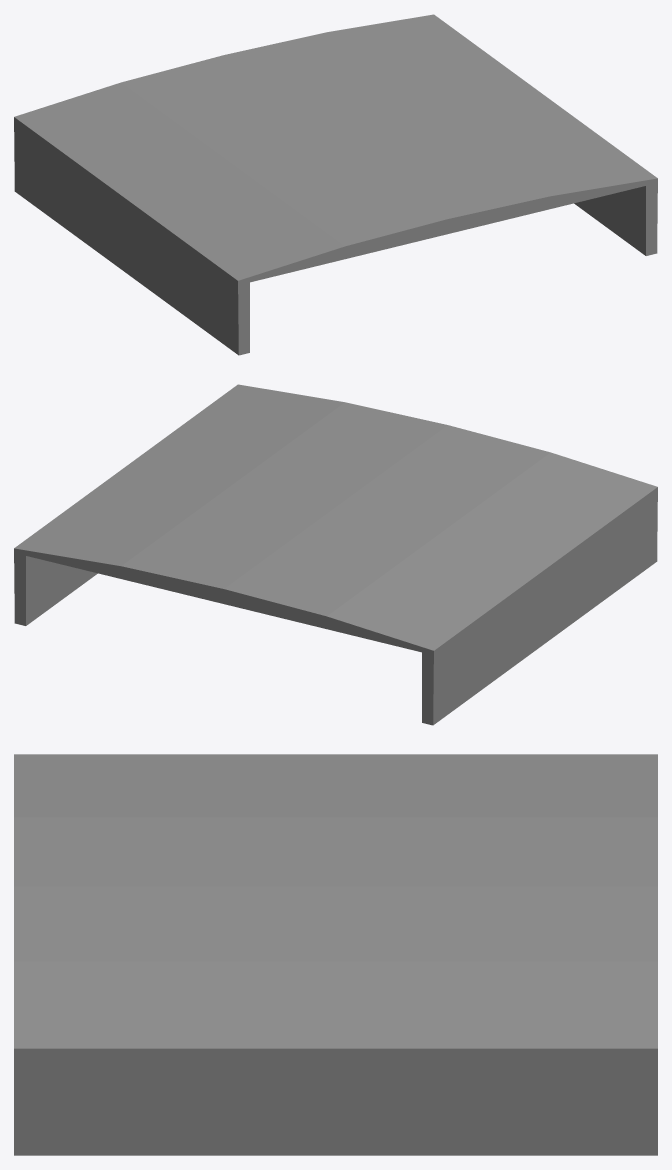
File: Itr_Bed_Double_Blanket_05.FBX
3 views of the same model, one above another, from view 1: azimuth 30°, elevation 25°; view 2: azimuth 150°, elevation 25°; view 3: azimuth 270°, elevation 25° (orthographic). The views are drawn at different scales.
Visible parts, largest first — view 1: Itr_Bed_Double_Blanket_05; view 2: Itr_Bed_Double_Blanket_05; view 3: Itr_Bed_Double_Blanket_05.
Boxes of the visible parts, x1=… form: Itr_Bed_Double_Blanket_05: x1=14, y1=14, x2=657, y2=355; Itr_Bed_Double_Blanket_05: x1=14, y1=384, x2=657, y2=725; Itr_Bed_Double_Blanket_05: x1=14, y1=754, x2=657, y2=1155.
Size of the model in its own units: 70.21 by 13.65 by 64.86.
